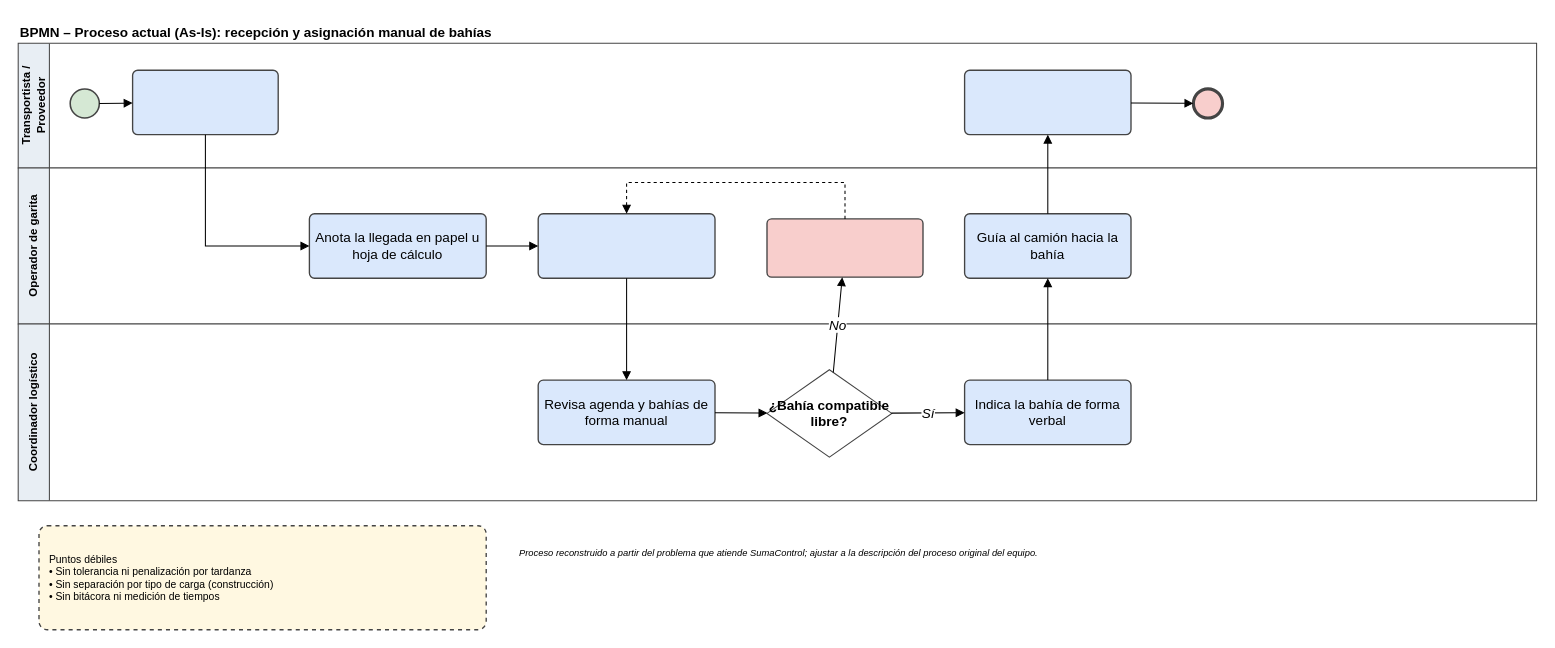
Some shapes in this 1555 by 648 pixel diagram are drawn without their labels. Each missing label, with the centre of its shape:
Consulta al coordinador por una bahía: point 626,245
Descarga la mercancía: point 1047,102
El camión espera sin orden definido: point 844,247
Llega a la garita con su carga: point 204,102
